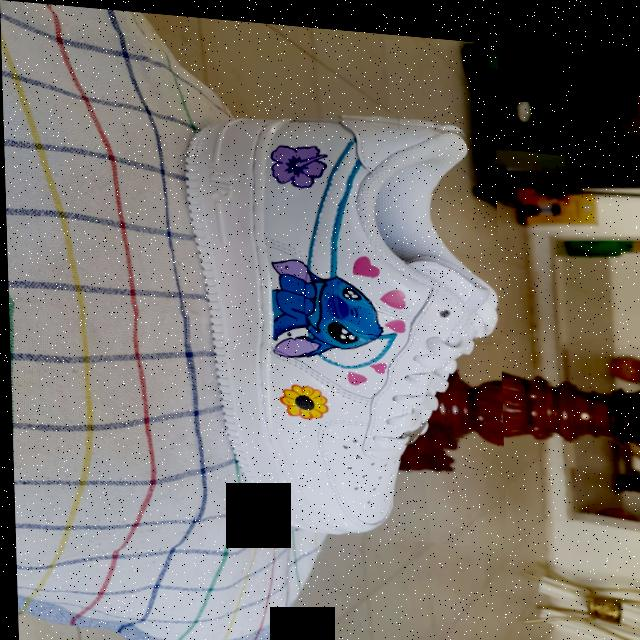shoe: (179, 94, 504, 540)
